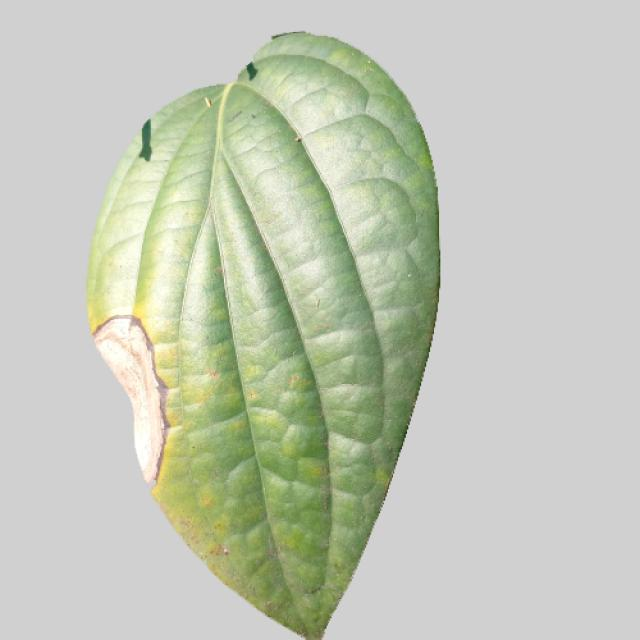leaf-blight: (73, 46, 453, 632)
